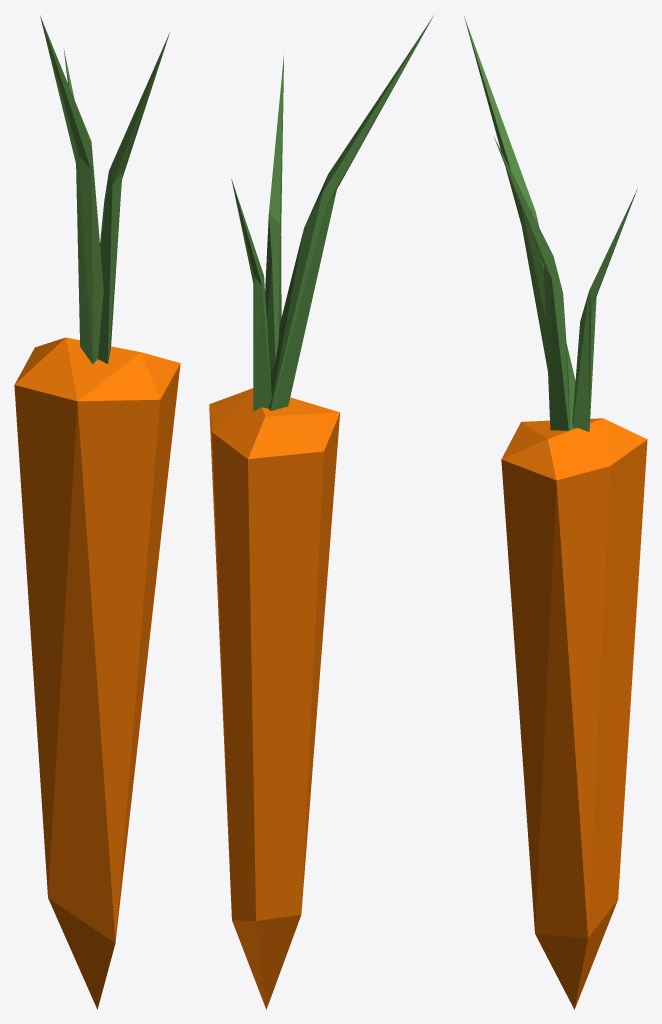
File: SM_Food_Carrot_01.fbx
3 renders of one model, left to right at view 1: azimuth 30°, elevation 25°; view 2: azimuth 150°, elevation 25°; view 3: azimuth 270°, elevation 25°, orthographic. The views are drawn at different scales.
Visible parts, largest first — view 1: SM_Food_Carrot_01; view 2: SM_Food_Carrot_01; view 3: SM_Food_Carrot_01.
Boxes of the visible parts, <box> form: SM_Food_Carrot_01: <box>14,15,180,1009</box>; SM_Food_Carrot_01: <box>209,16,433,1009</box>; SM_Food_Carrot_01: <box>464,16,647,1009</box>.
Size of the model in its own units: 0.061 by 0.3224 by 0.057.
